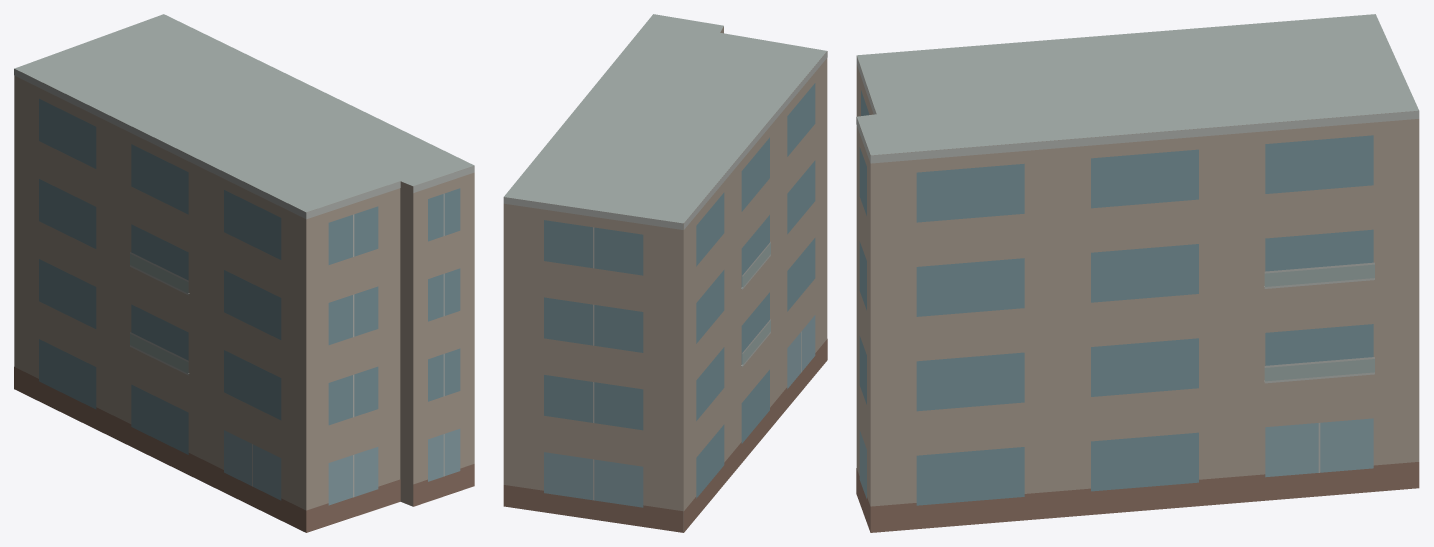
The model's file is survey-upis-32623715.glb.
The picture shows the model from 3 angles, left to right: view 1: azimuth 30°, elevation 25°; view 2: azimuth 150°, elevation 25°; view 3: azimuth 270°, elevation 25°; orthographic projection. The views are drawn at different scales.
Parts seen in each view (by area): view 1: survey-upis-32623715.tmp; view 2: survey-upis-32623715.tmp; view 3: survey-upis-32623715.tmp.
Boxes of the visible parts, left/top/right/bottom form: survey-upis-32623715.tmp: left=14, top=14, right=474, bottom=532; survey-upis-32623715.tmp: left=503, top=14, right=827, bottom=532; survey-upis-32623715.tmp: left=856, top=14, right=1419, bottom=532.
Size of the model in its own units: 9.09 by 11.3 by 15.28.
